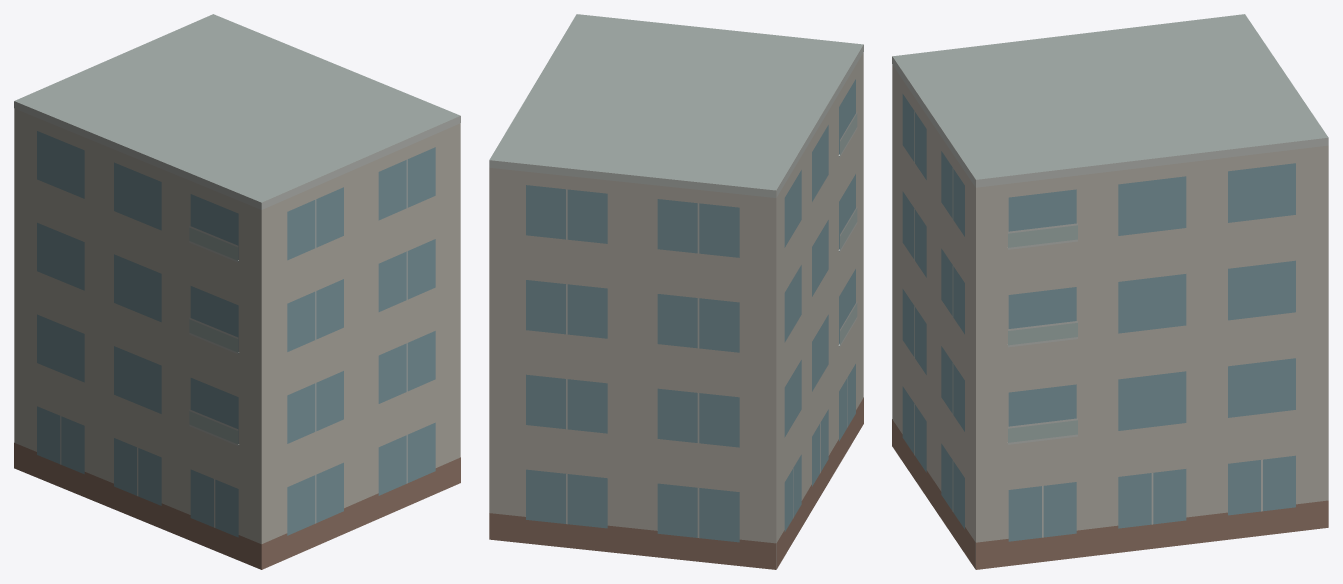
Rendered from survey-upis-32954314.glb.
The picture shows the model from 3 angles, left to right: view 1: azimuth 30°, elevation 25°; view 2: azimuth 150°, elevation 25°; view 3: azimuth 270°, elevation 25°; orthographic projection. The views are drawn at different scales.
Parts seen in each view (by area): view 1: survey-upis-32954314.tmp; view 2: survey-upis-32954314.tmp; view 3: survey-upis-32954314.tmp.
Part boxes in pixels (x1,y1,x2,y2): survey-upis-32954314.tmp: (14, 14, 460, 569); survey-upis-32954314.tmp: (489, 14, 863, 569); survey-upis-32954314.tmp: (892, 14, 1328, 569).
Bounding box in the file's own units: 11.09 × 12.15 × 12.33.
